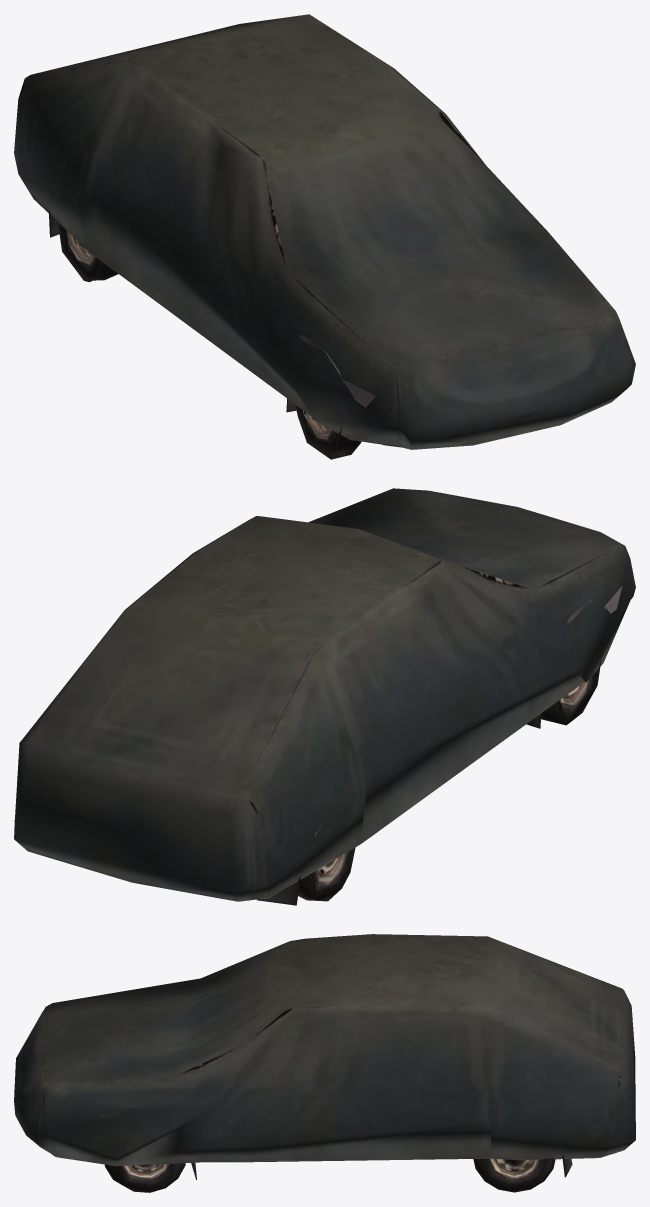
Rendered from car.glb.
3 views of the same model, one above another, from view 1: azimuth 30°, elevation 25°; view 2: azimuth 150°, elevation 25°; view 3: azimuth 270°, elevation 25° (orthographic). The views are drawn at different scales.
Parts seen in each view (by area): view 1: covered_car_wheel_02; view 2: covered_car_wheel_02; view 3: covered_car_wheel_02, covered_car_wheel_01.
Part boxes in pixels (x1=…): covered_car_wheel_02: x1=14, y1=14, x2=635, y2=459; covered_car_wheel_02: x1=14, y1=488, x2=635, y2=905; covered_car_wheel_02: x1=14, y1=934, x2=635, y2=1179; covered_car_wheel_01: x1=104, y1=1157, x2=555, y2=1192.
Bounding box in the file's own units: 1.79 × 1.41 × 4.34.
Materials: 1 (1 with a texture image).
